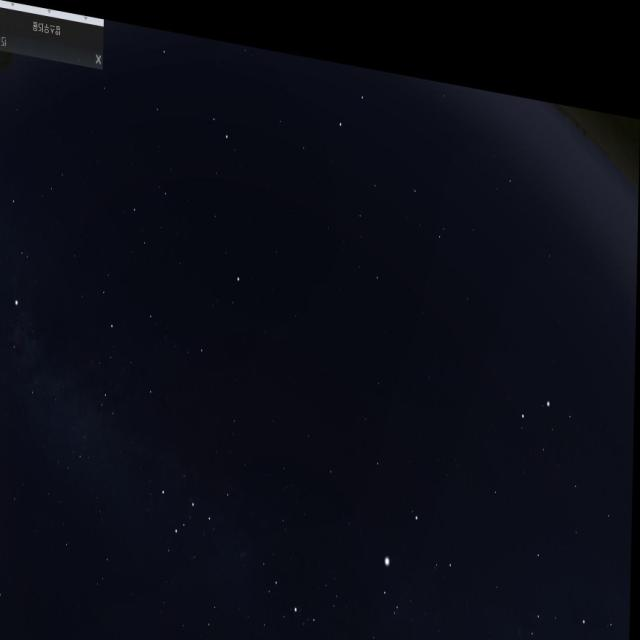cassiopeia: (160, 444, 244, 574)
